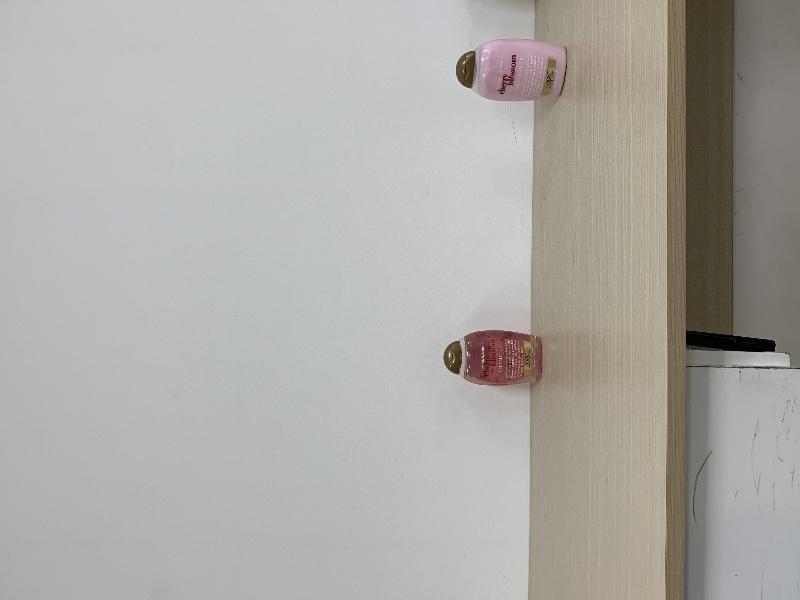CherryBlossom_Conditioner: (456, 39, 566, 101)
CherryBlossom_Shampoo: (444, 330, 542, 386)
